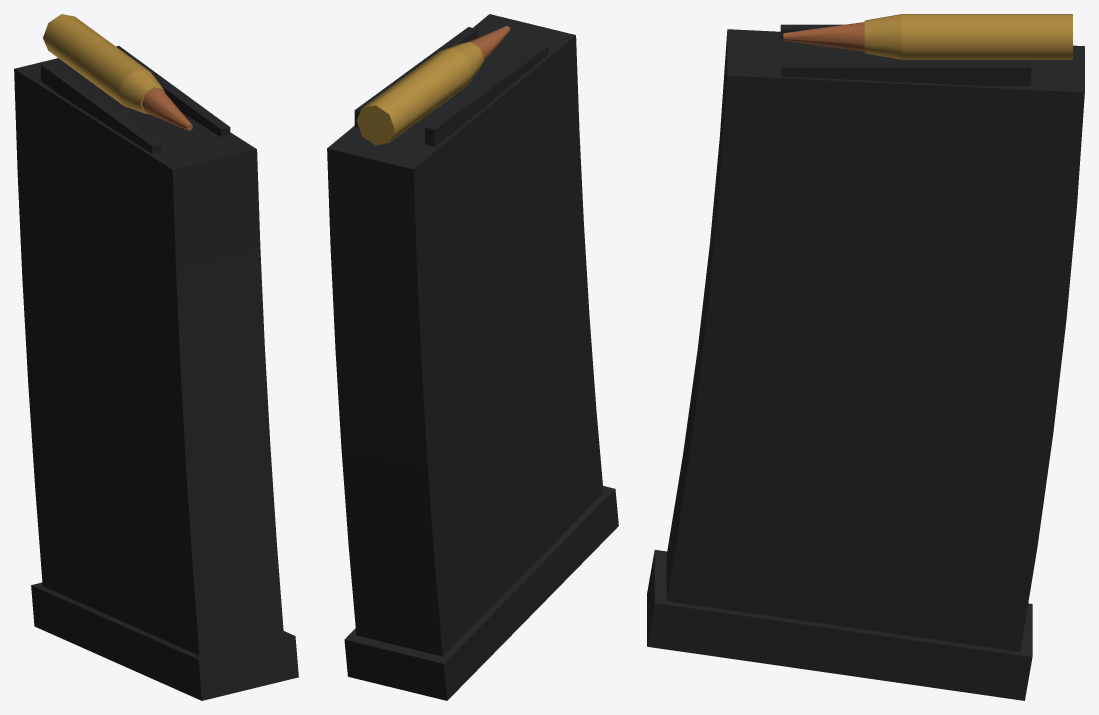
The model's file is mag-m110.glb.
3 views of the same model, side by side, from view 1: azimuth 30°, elevation 25°; view 2: azimuth 150°, elevation 25°; view 3: azimuth 270°, elevation 25° (orthographic). The views are drawn at different scales.
Parts seen in each view (by area): view 1: mag-m110; view 2: mag-m110; view 3: mag-m110.
Boxes of the visible parts, bbox=[...] form: mag-m110: bbox=[14, 14, 298, 700]; mag-m110: bbox=[327, 14, 618, 700]; mag-m110: bbox=[647, 14, 1084, 700].
Size of the model in its own units: 0.031 by 0.1788 by 0.1076.
Materials: 1 (1 with a texture image).
